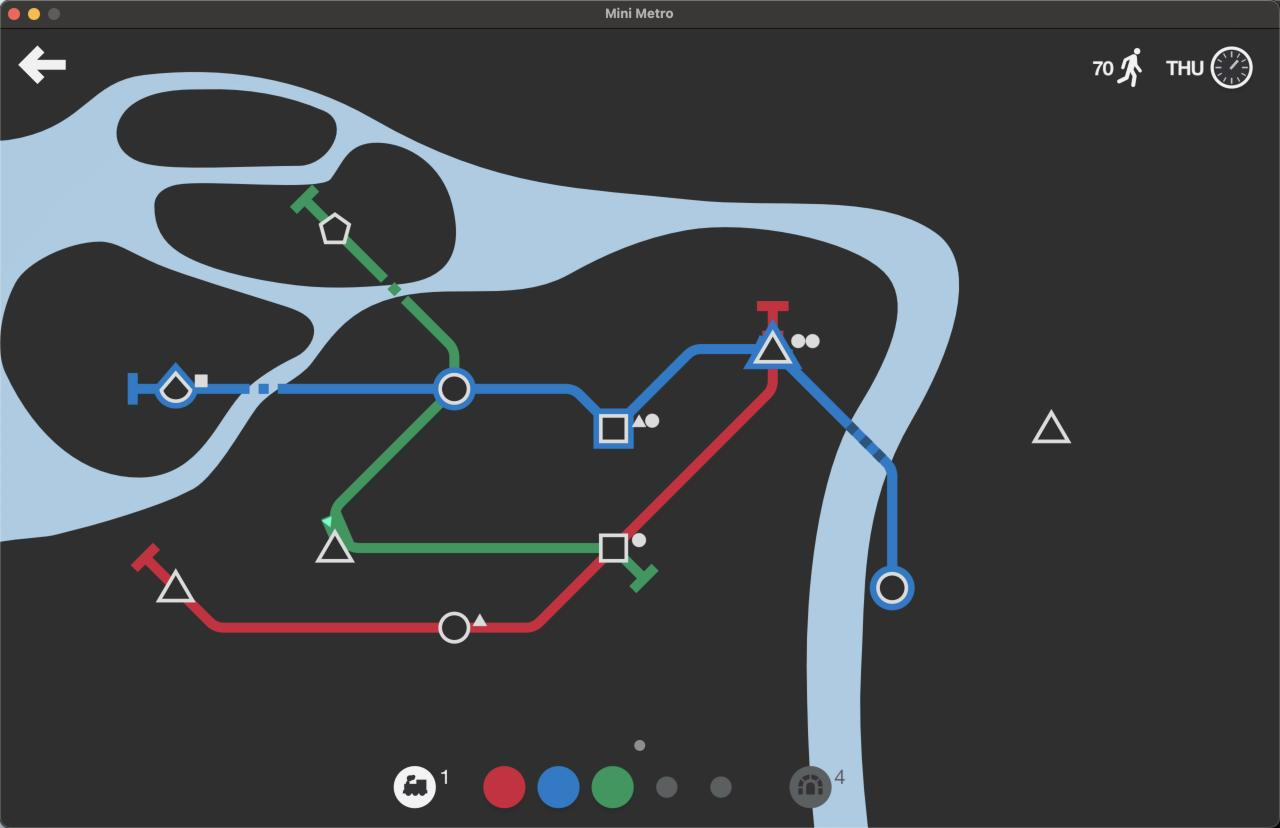CIRCLE: (436, 372, 471, 406), (438, 610, 471, 644)
PENTAGON: (318, 213, 352, 246)
SQUARE: (597, 412, 630, 446), (598, 532, 629, 564)
TRIANGLE: (751, 328, 794, 367), (314, 526, 355, 565), (1031, 409, 1073, 445), (156, 568, 195, 604)
WEDGE: (158, 367, 194, 408)
